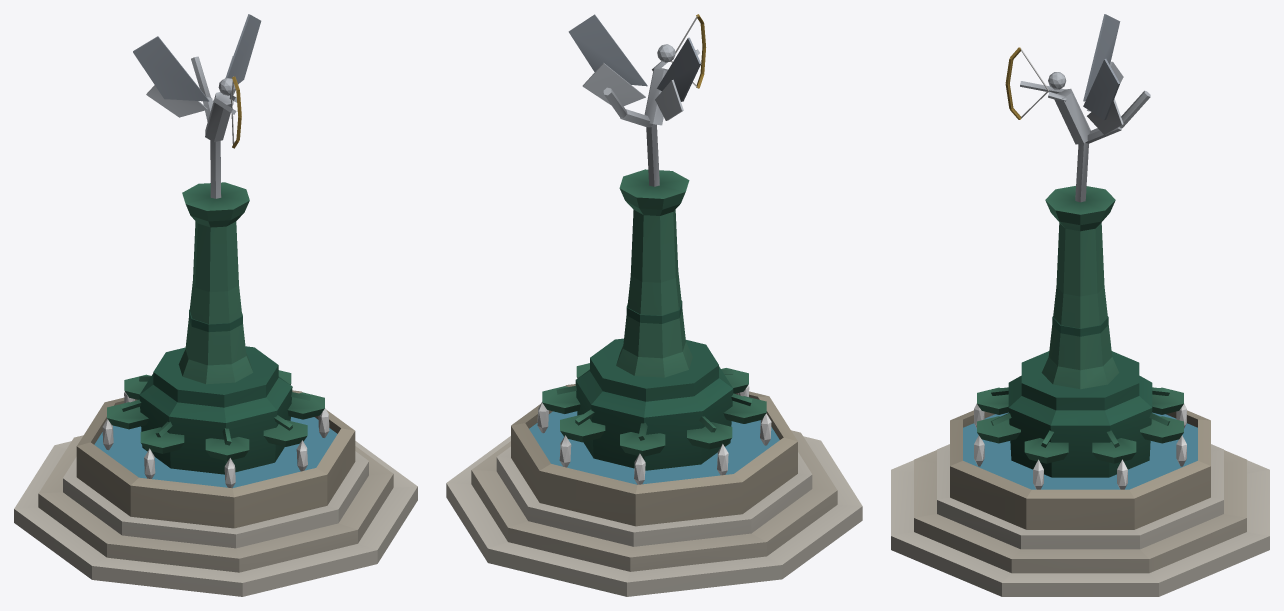
File: ld_statue-Cqlba735.glb
The picture shows the model from 3 angles, left to right: view 1: azimuth 30°, elevation 25°; view 2: azimuth 150°, elevation 25°; view 3: azimuth 270°, elevation 25°; orthographic projection. The views are drawn at different scales.
Size of the model in its own units: 5.36 by 7.5 by 5.36.
